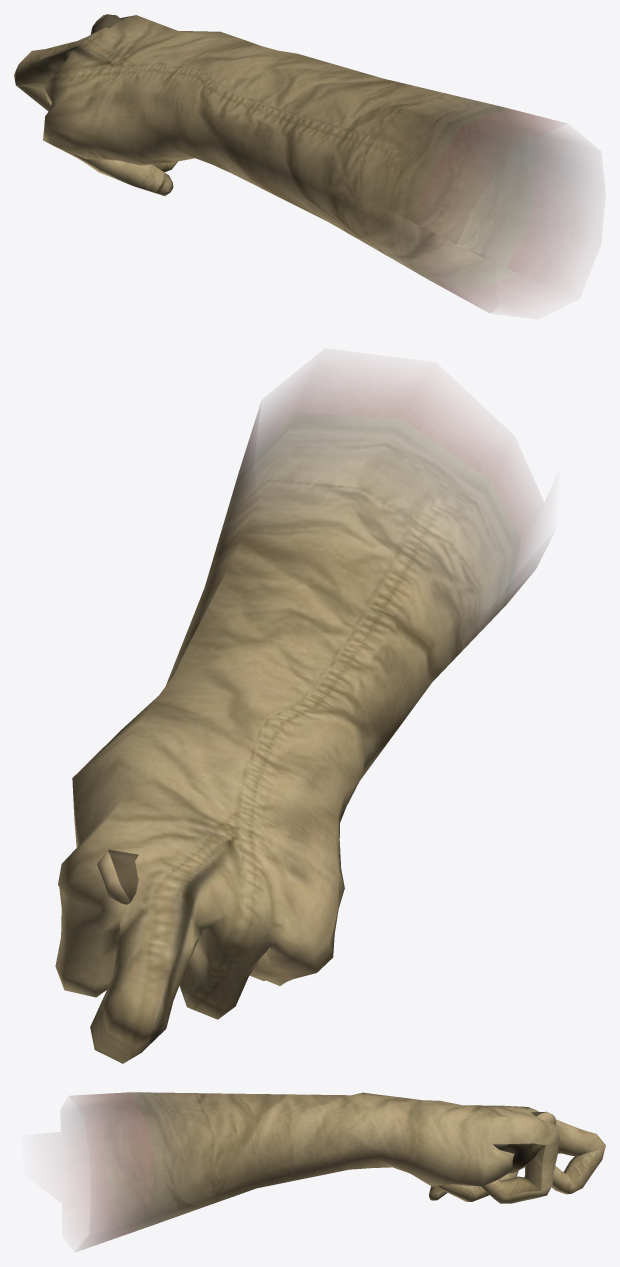
The model's file is rb-left.glb.
3 renders of one model, top to bottom at view 1: azimuth 30°, elevation 25°; view 2: azimuth 150°, elevation 25°; view 3: azimuth 270°, elevation 25°, orthographic. The views are drawn at different scales.
Visible parts, largest first — view 1: main-left; view 2: main-left; view 3: main-left.
Part boxes in pixels (bbox=[...]): main-left: bbox=[14, 14, 596, 313]; main-left: bbox=[55, 356, 548, 1063]; main-left: bbox=[57, 1092, 605, 1251].
Size of the model in its own units: 0.161 by 0.0984 by 0.3507.
Materials: 1 (1 with a texture image).
